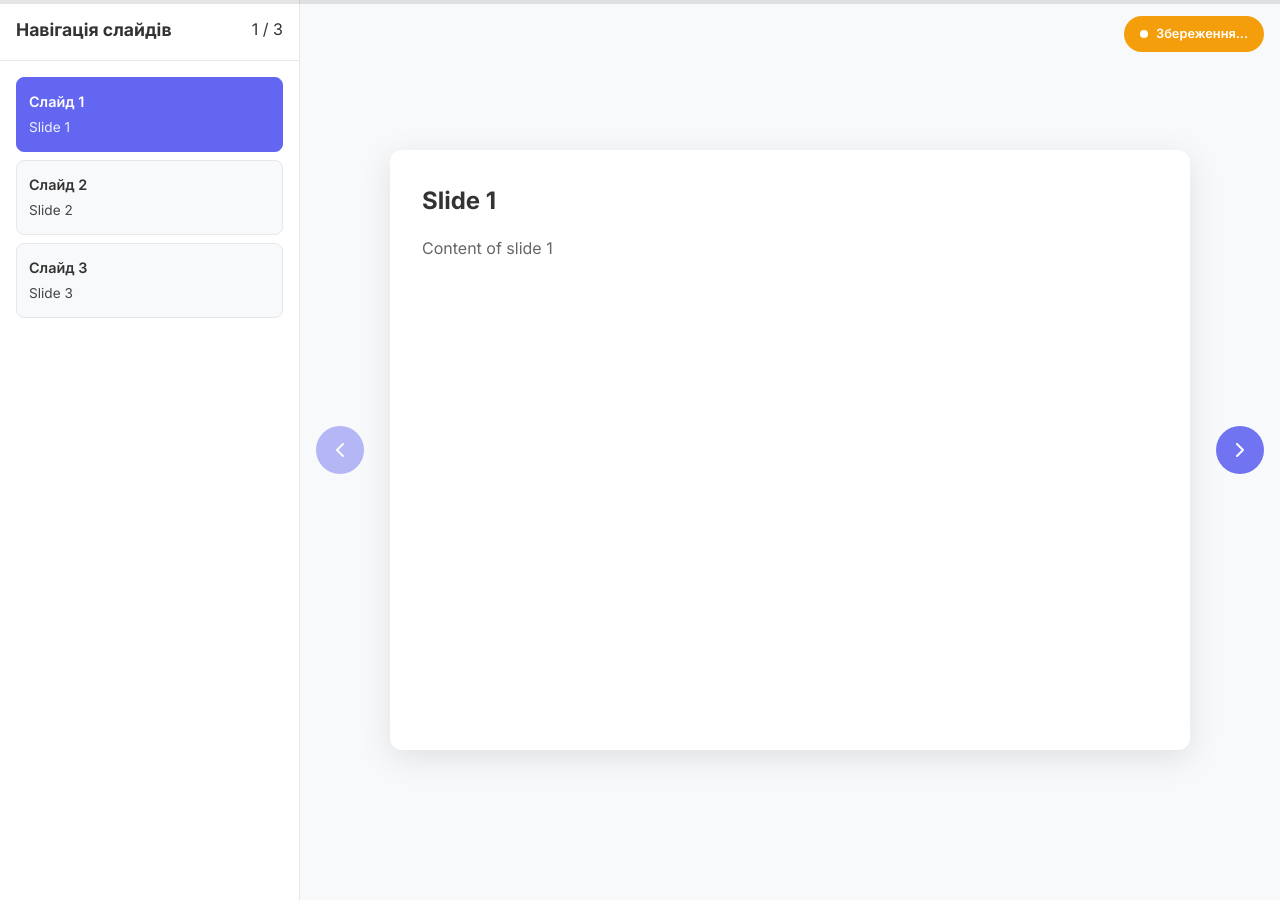
Test: LessonPlayer › navigates to specific slide when sidebar item is clicked
Click the text "Слайд 3" at coordinates (58, 267), box [29, 259, 87, 276]
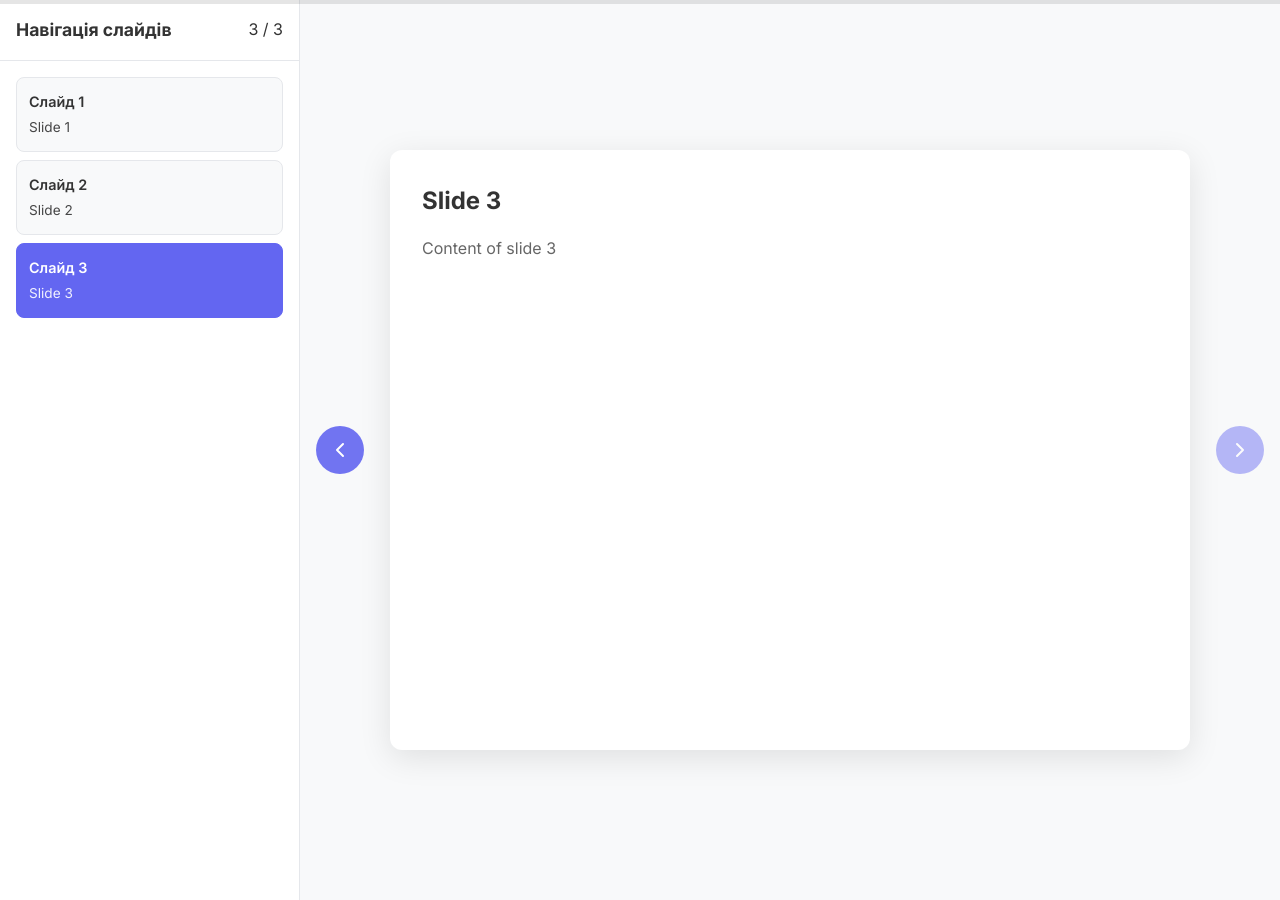
expect the text "3 / 3" is shown: met, box [248, 17, 283, 43]
